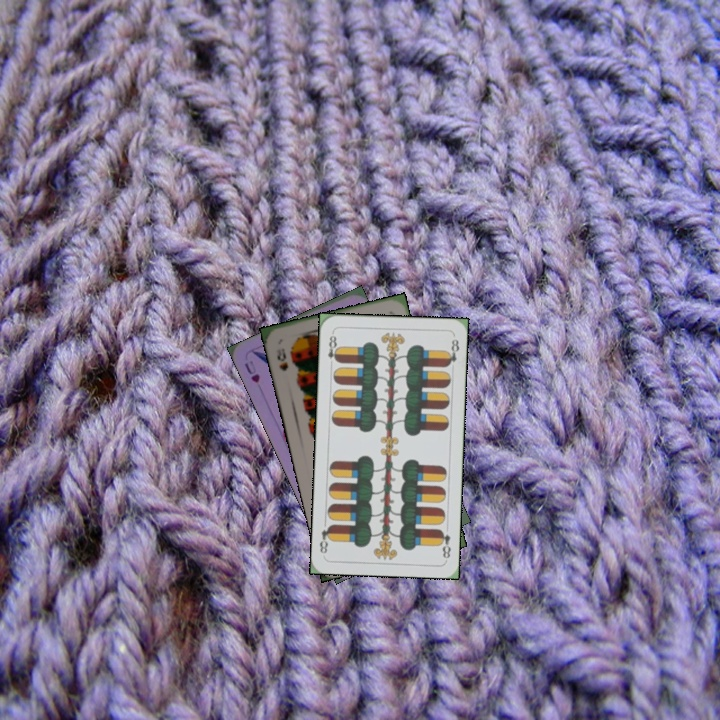E8: (435, 525, 454, 561), (324, 329, 341, 369)
HU: (240, 356, 263, 386)
S8: (272, 344, 291, 374)
